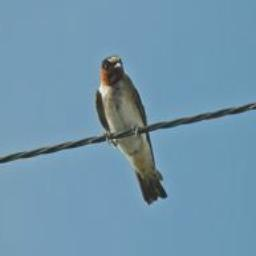Swallow: (96, 51, 171, 205)
